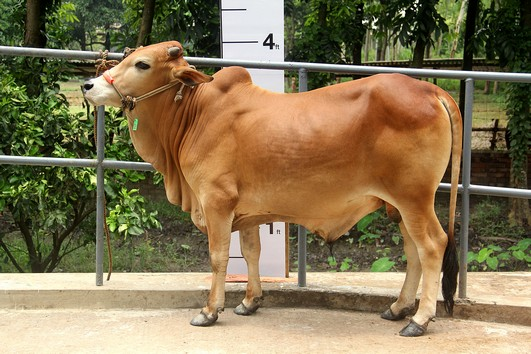cow: (77, 37, 469, 338)
